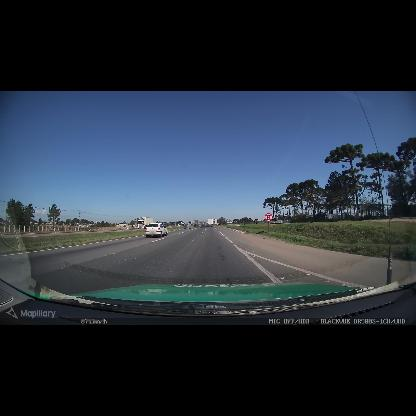R-6c: (264, 213, 273, 222)
